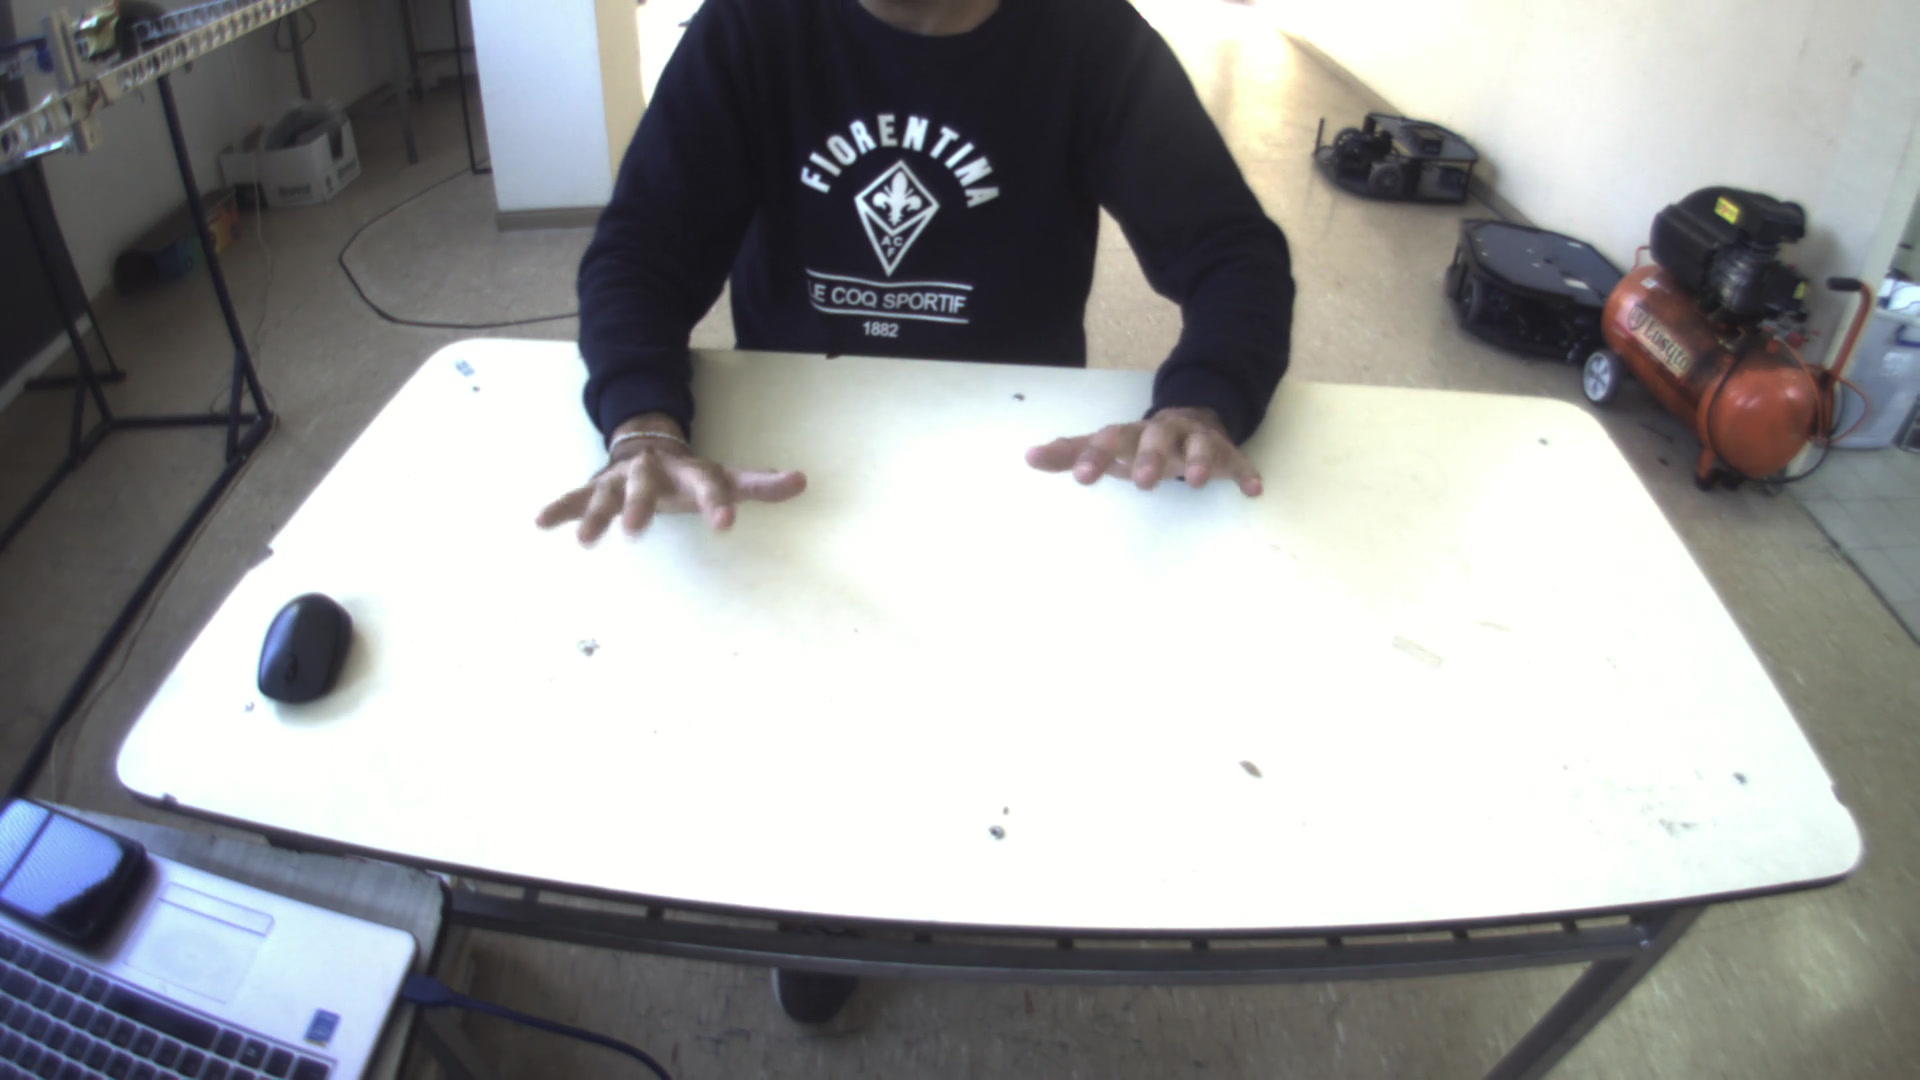hand: (512, 407, 810, 550), (1015, 378, 1280, 500)
